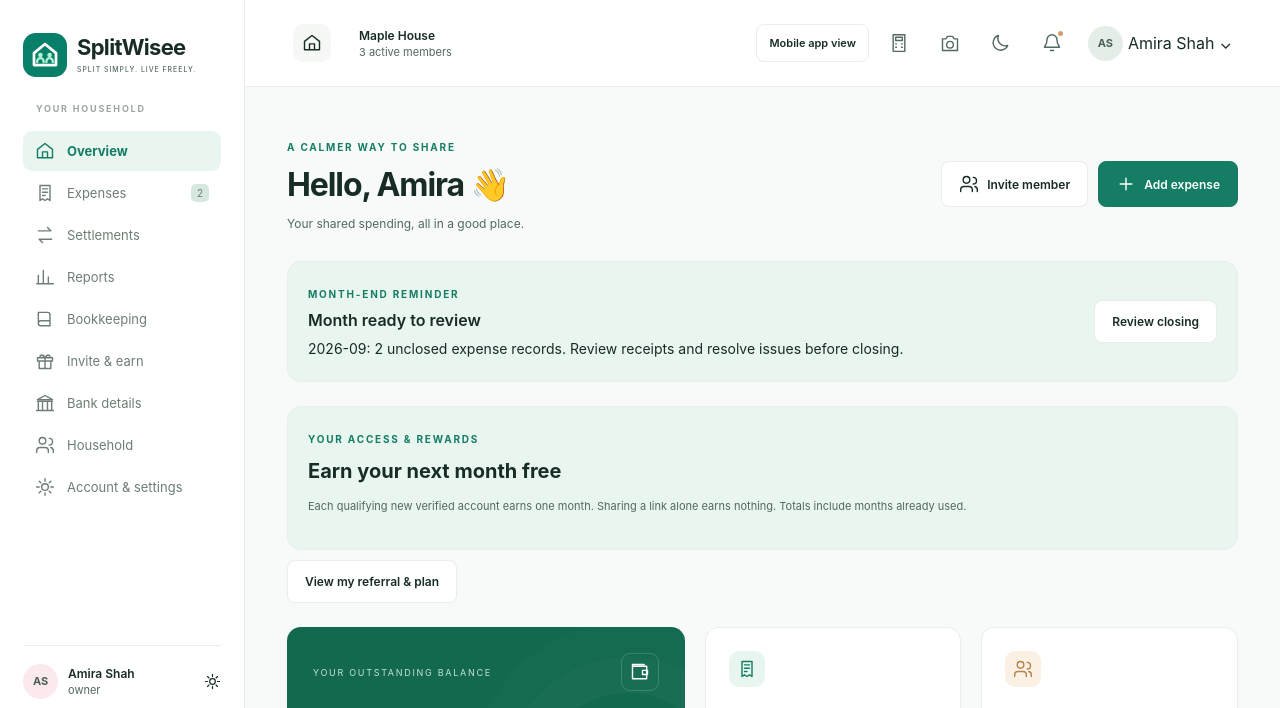
Test case: calculator › keeps a history of results
Click the button named "Open calculator" at x=899, y=43, box x1=878 y1=22 x2=920 y2=64
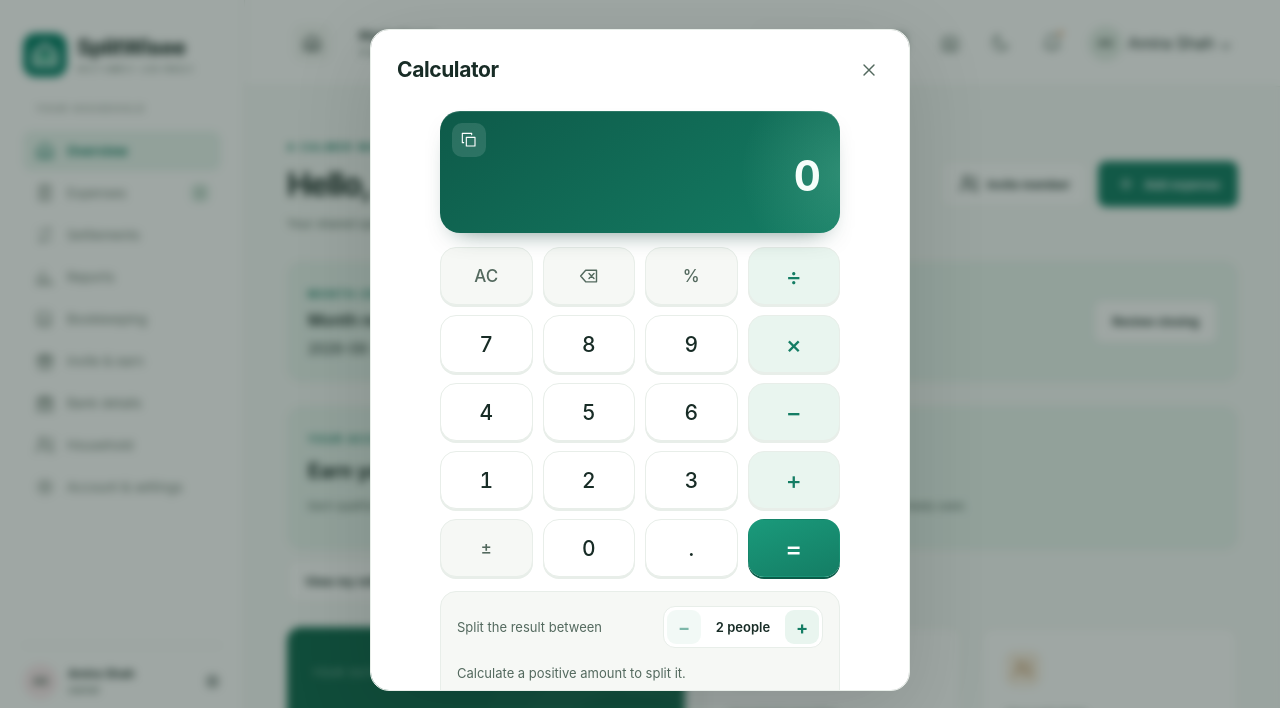
Press 7
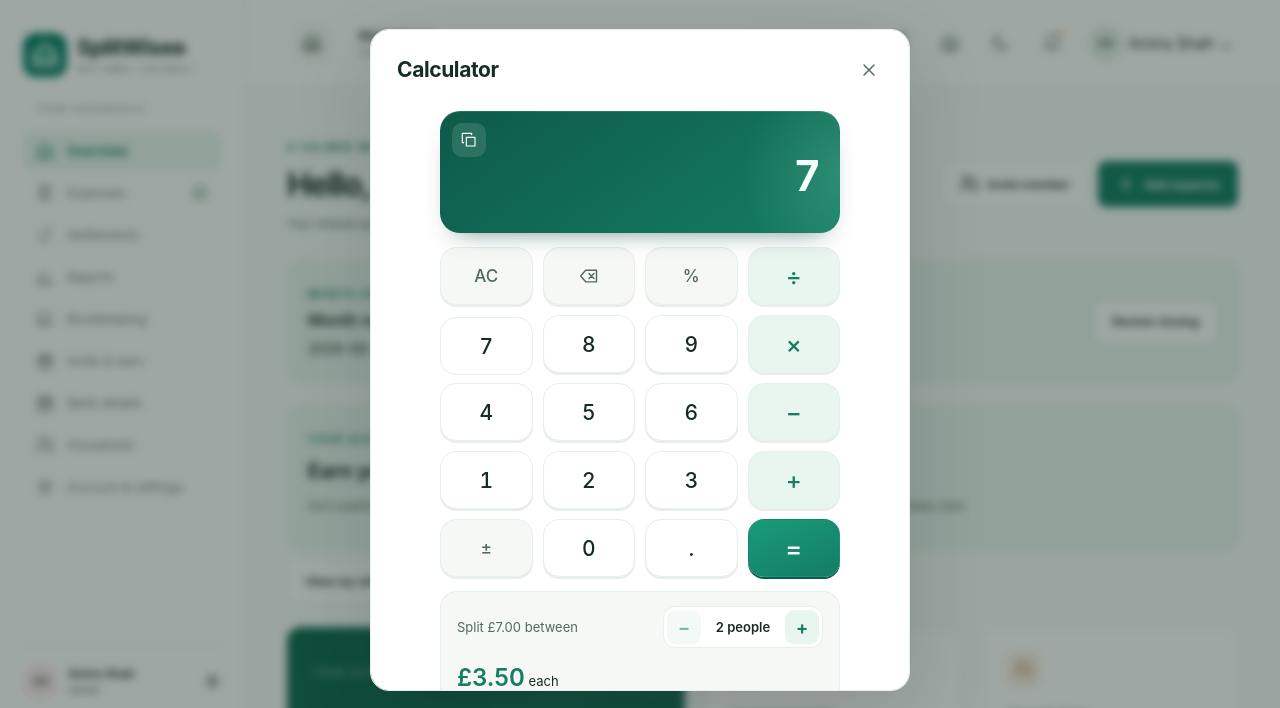
Press *
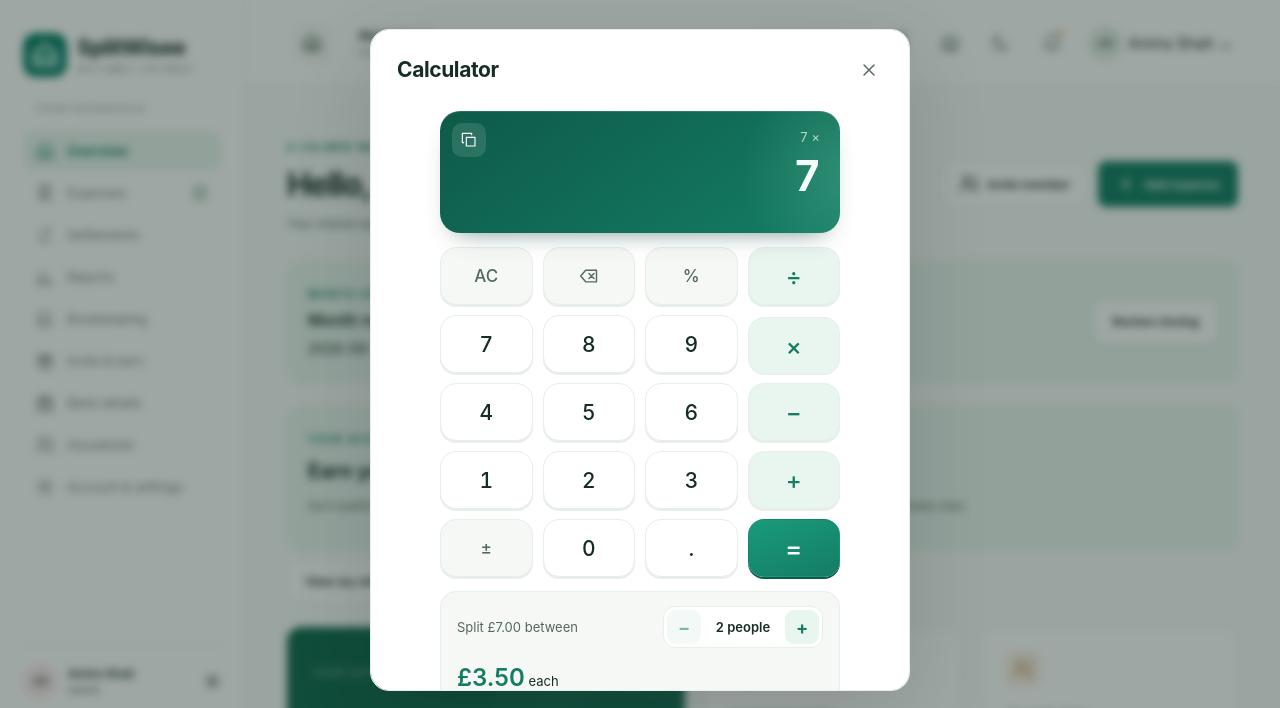
Press 6
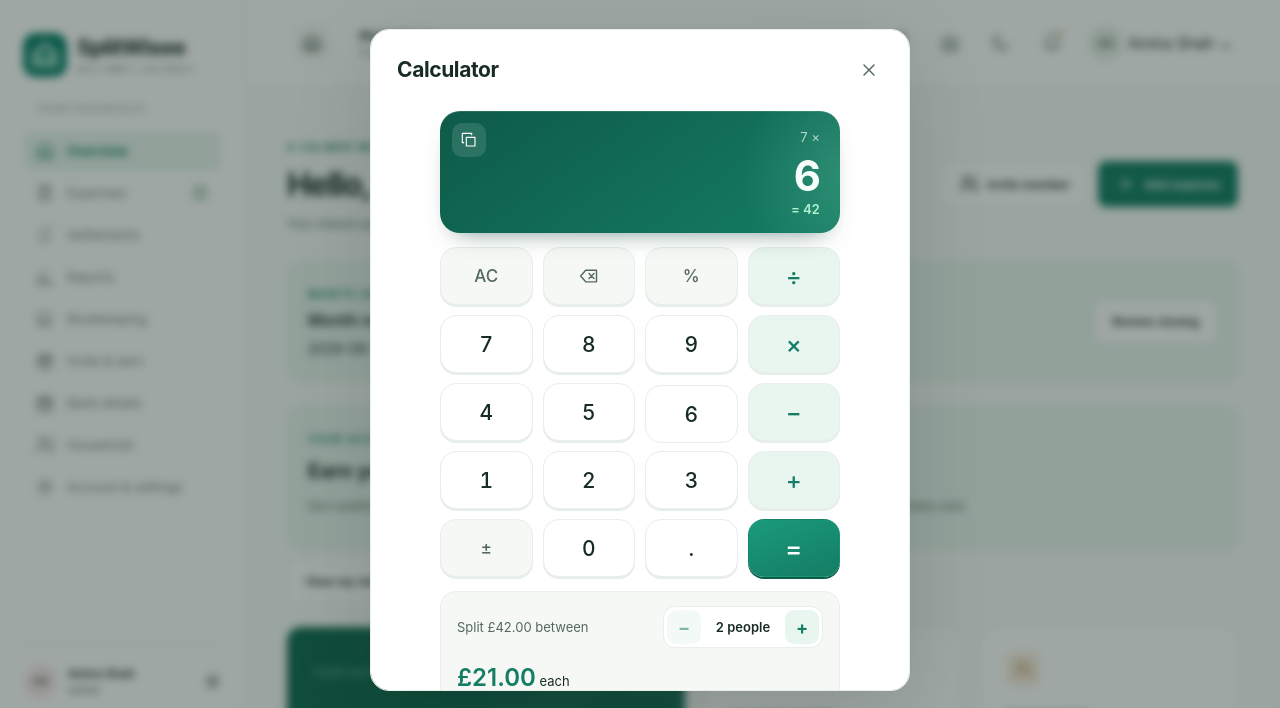
Press Enter
(page scrolled)
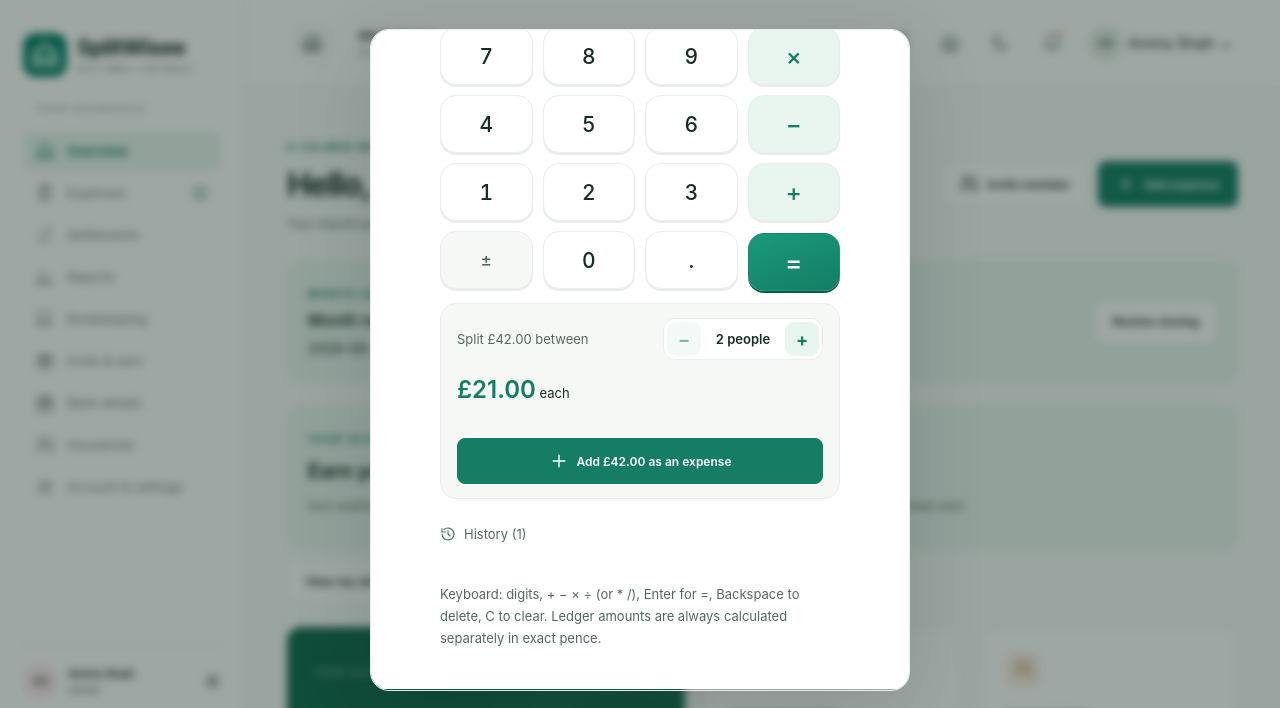
Click the heading "History (1)" at x=483, y=534, box x1=440 y1=526 x2=526 y2=542
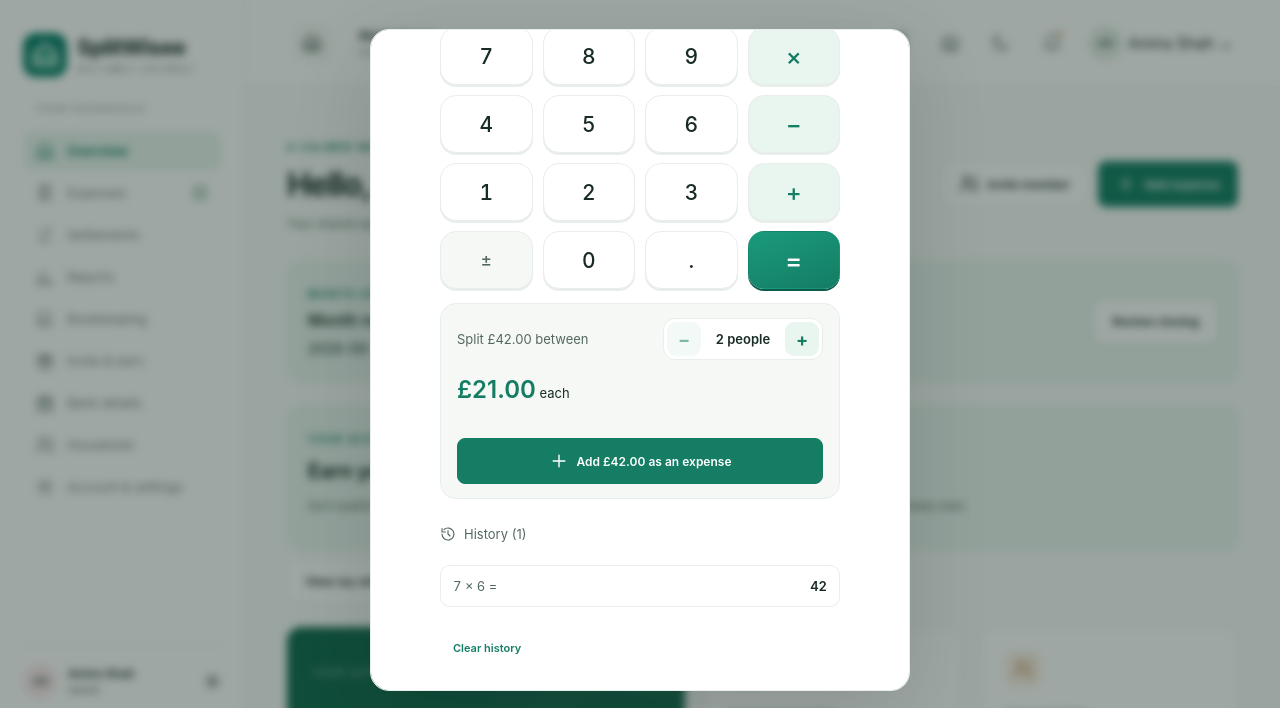
expect the button "7 × 6 = 42" is shown: met, box x1=440 y1=565 x2=840 y2=607
